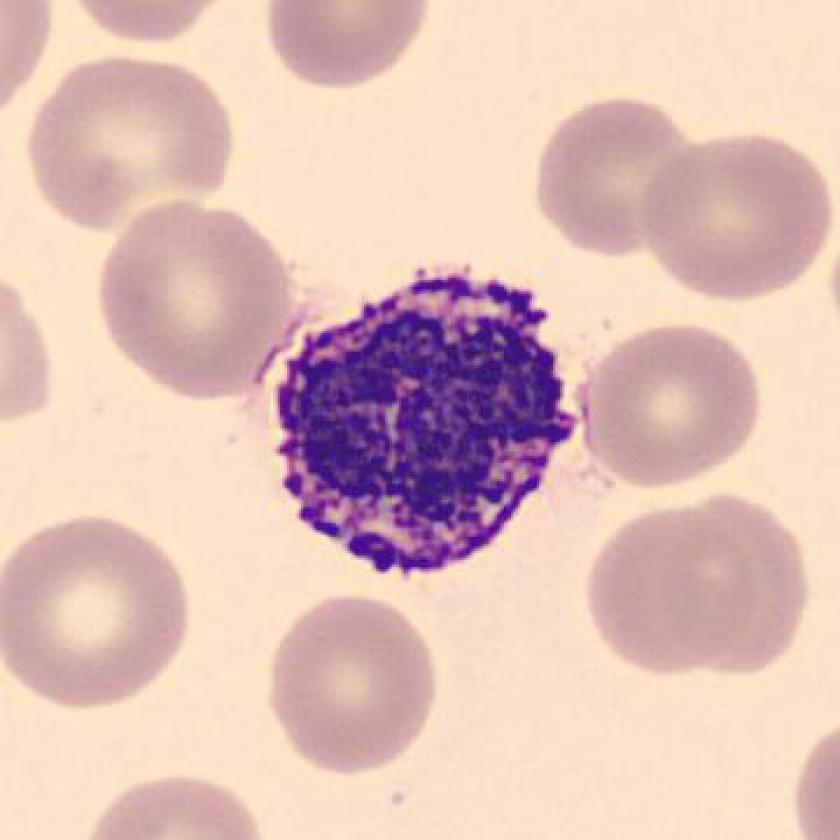basophil: (256, 219, 585, 594)
